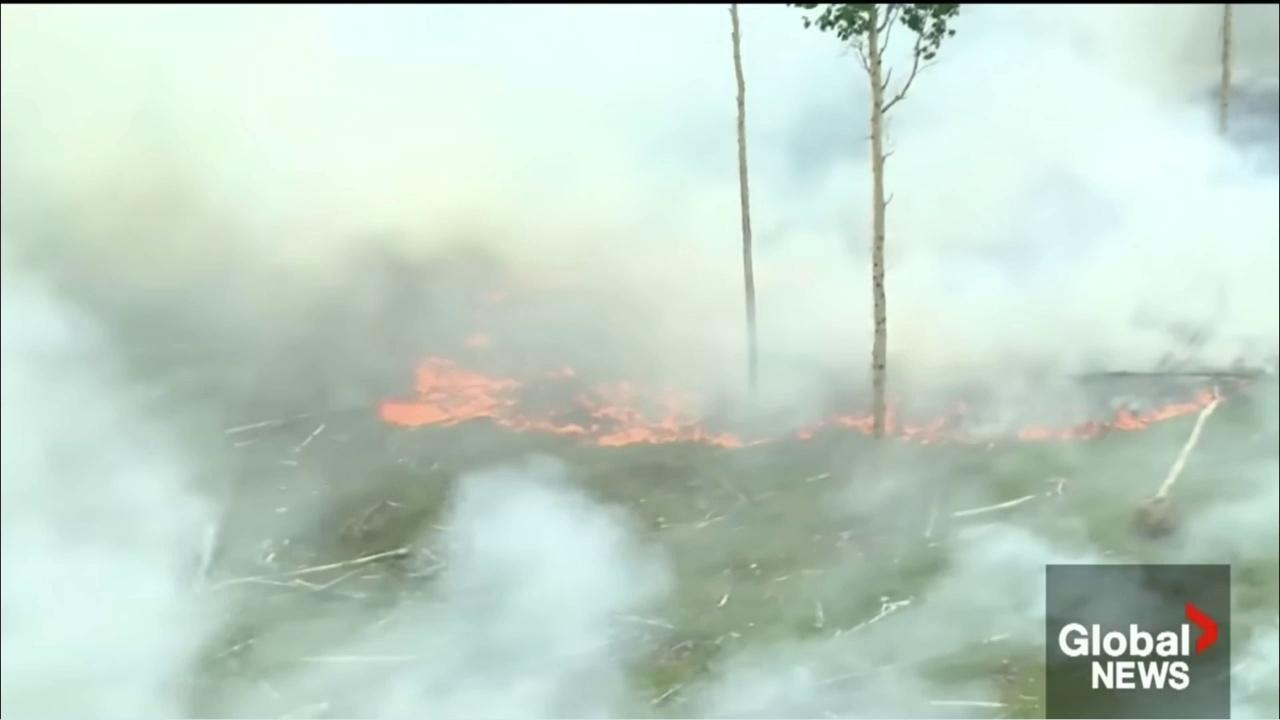fire: (370, 353, 787, 453), (901, 383, 1224, 447), (798, 385, 900, 443), (450, 326, 496, 349)
smoke: (3, 5, 1280, 720)
